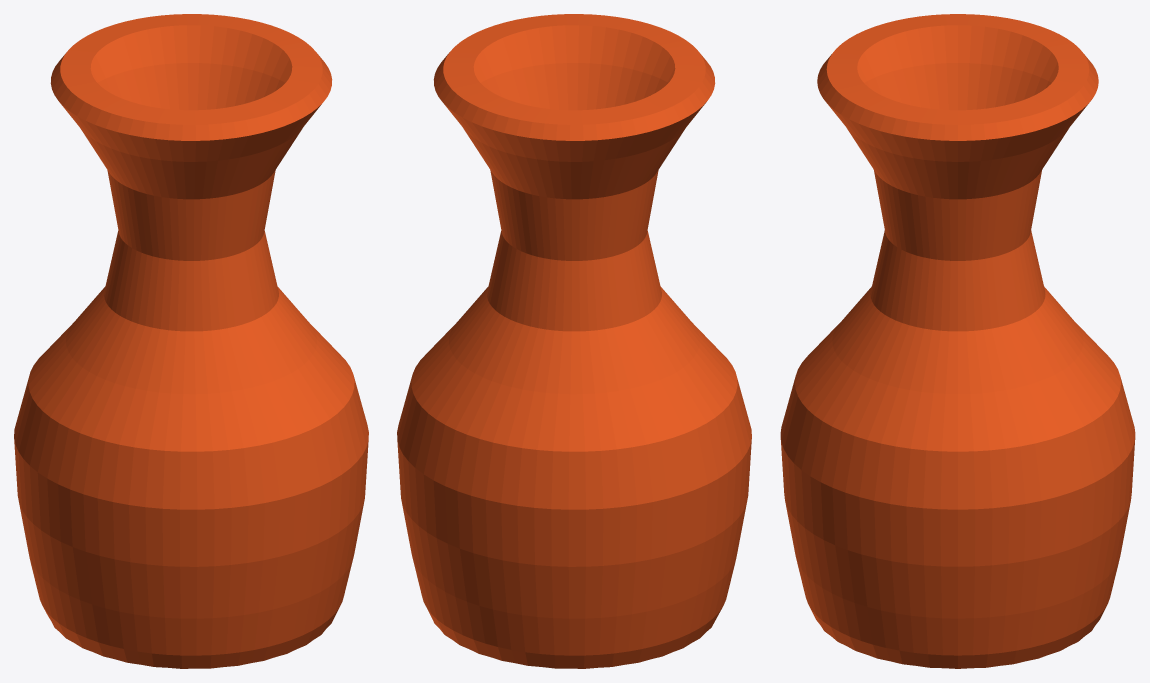
Rendered from Vas Kecil.fbx.
3 views of the same model, side by side, from view 1: azimuth 30°, elevation 25°; view 2: azimuth 150°, elevation 25°; view 3: azimuth 270°, elevation 25° (orthographic).
Parts seen in each view (by area): view 1: Cylinder.001; view 2: Cylinder.001; view 3: Cylinder.001.
Boxes of the visible parts, <box> form: Cylinder.001: <box>14,14,368,668</box>; Cylinder.001: <box>397,14,751,668</box>; Cylinder.001: <box>780,14,1135,668</box>.
Size of the model in its own units: 22.13 by 37.31 by 22.13.
